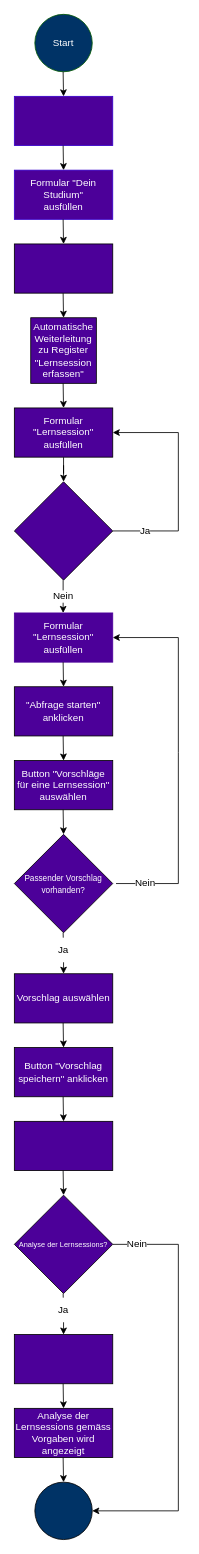
This 199x1554 diagram has some shape labels left out. The centre of each missing label's shape, as x and y in pixels:
Button "Analyse für Lernsession" klicken: pixel 63 1359
Button "Speicher" klicken: pixel 63 268
Ende: pixel 63 1510
Register "Übersicht" auswählen: pixel 63 1146
Register Fächer Erfassen auswählen: pixel 63 121
Weiteren Datensatz erfassen?: pixel 63 530
